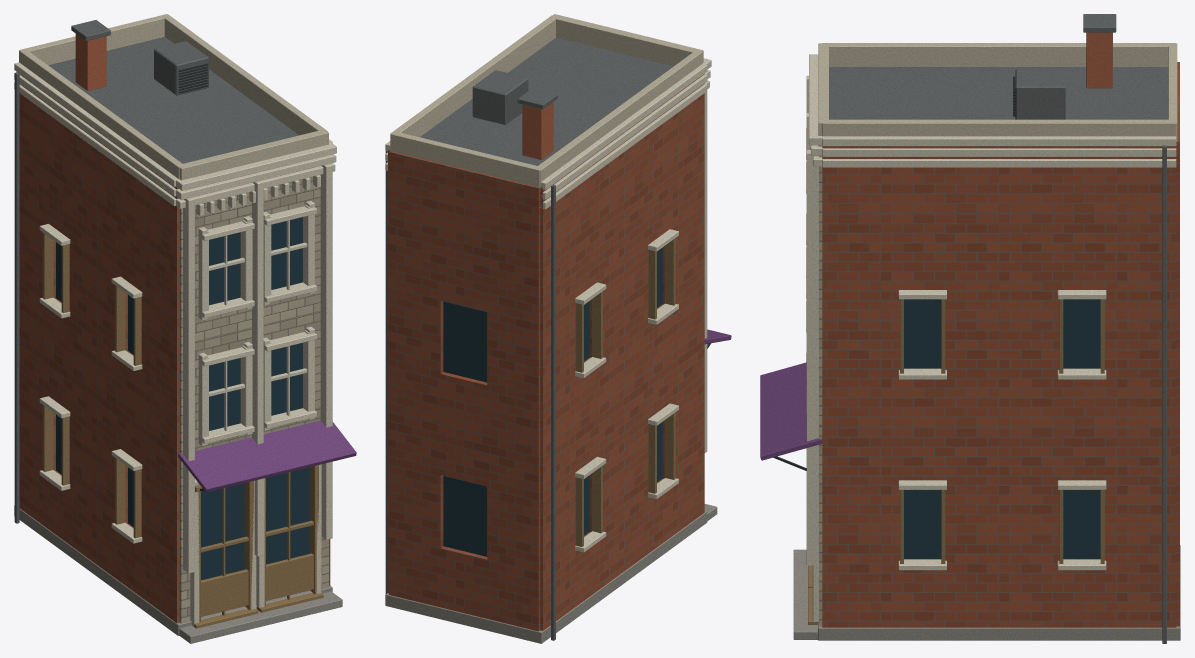
Rendered from BUSS9_lod1.glb.
3 views of the same model, side by side, from view 1: azimuth 30°, elevation 25°; view 2: azimuth 150°, elevation 25°; view 3: azimuth 270°, elevation 25° (orthographic). The views are drawn at different scales.
Parts seen in each view (by area): view 1: BUSS9_LOD1; view 2: BUSS9_LOD1; view 3: BUSS9_LOD1.
Boxes of the visible parts, x1,y1,x2,y2 form: BUSS9_LOD1: (14,14,356,643); BUSS9_LOD1: (385,14,731,643); BUSS9_LOD1: (760,14,1180,643).
Size of the model in its own units: 3.71 by 10.45 by 7.13.
12 materials, 10 textured.
